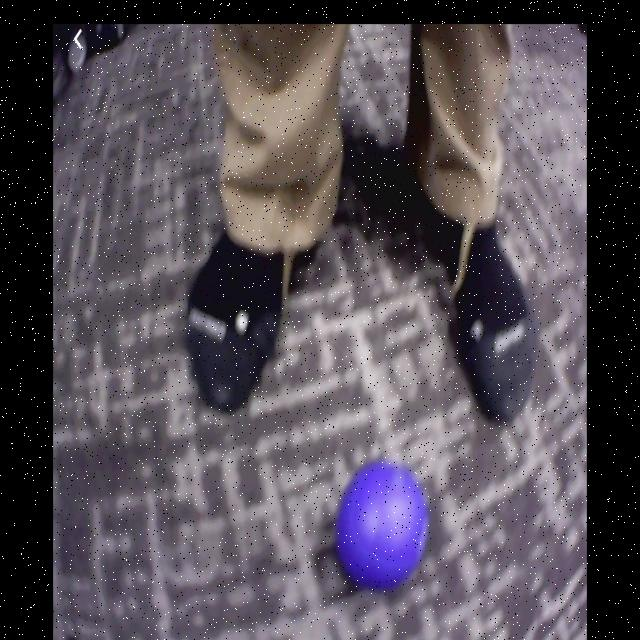ball: (336, 465, 431, 590)
